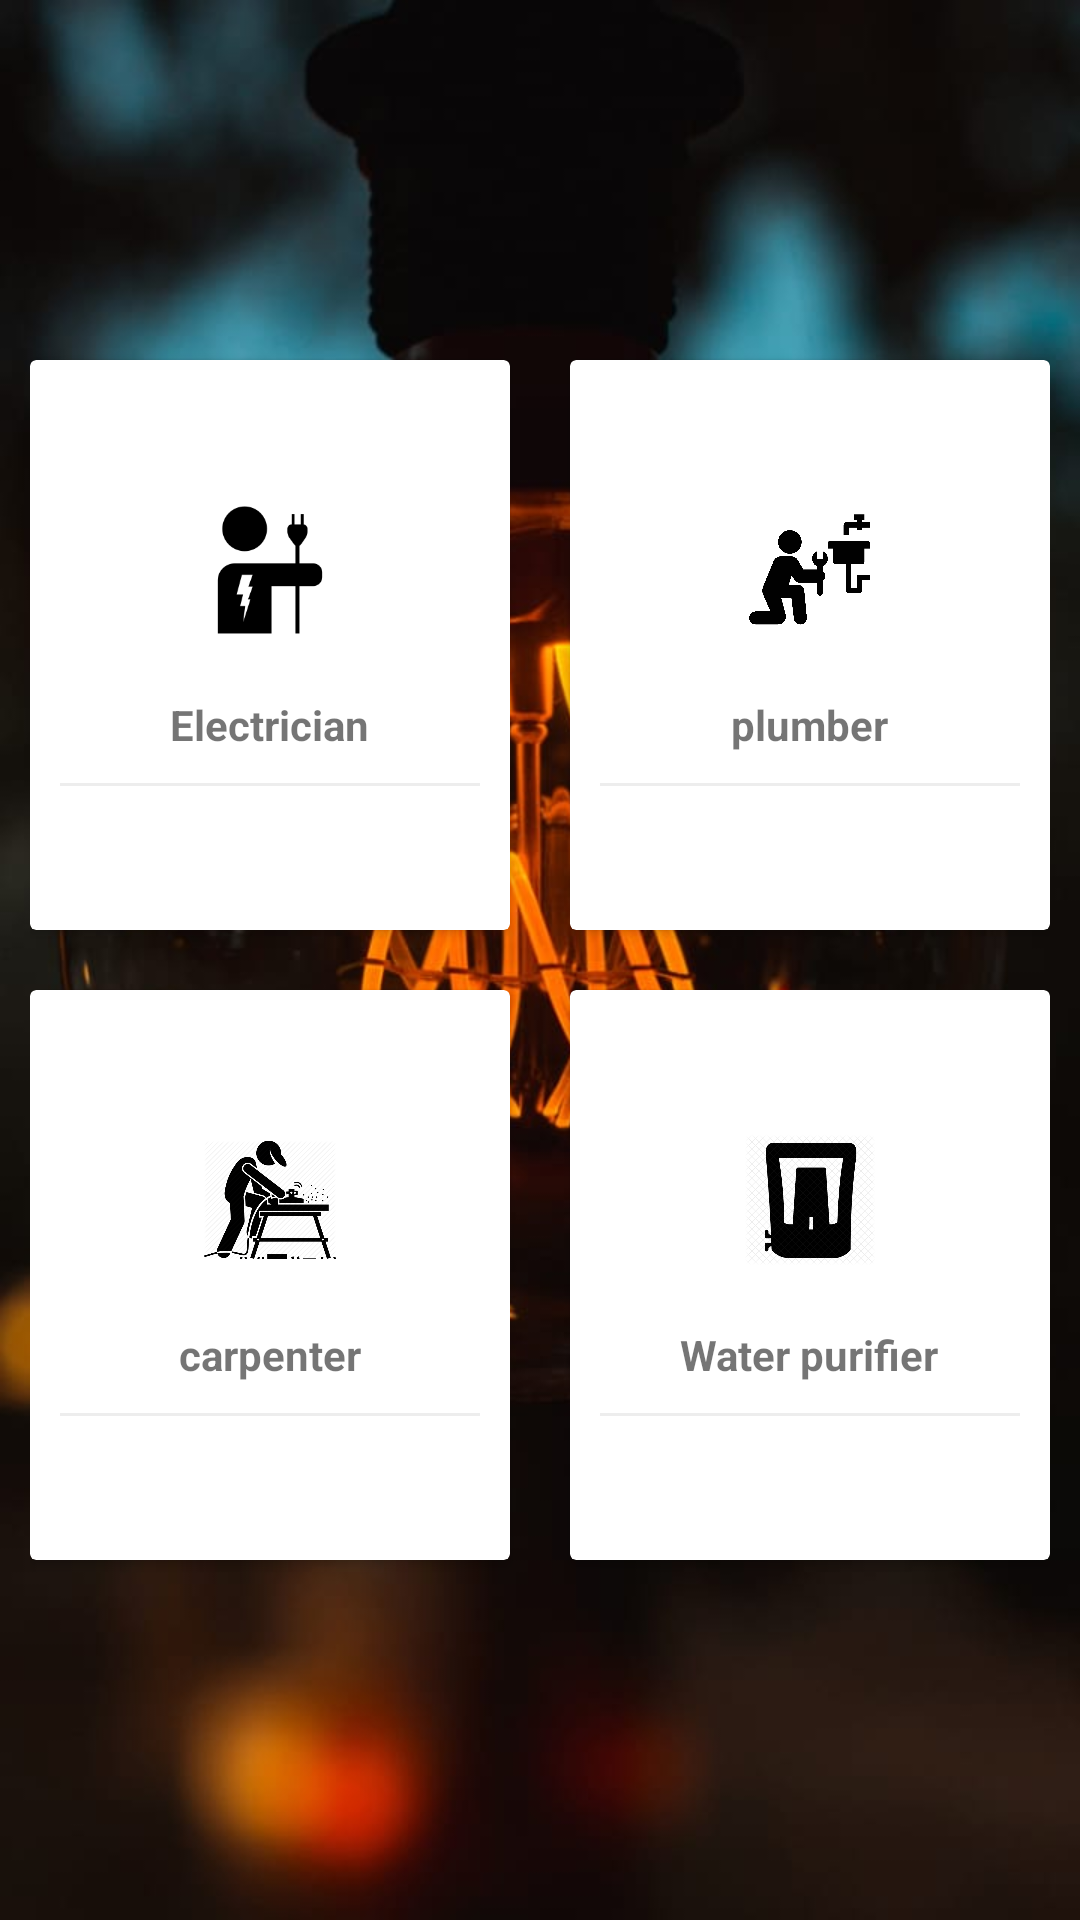

Icons on this 1080px×1920px Android screen, each with the point to tap as point (x, y):
watericon: point (811, 1200)
